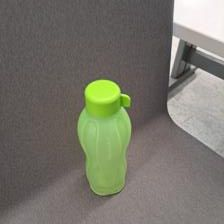bottle: (78, 76, 134, 196)
